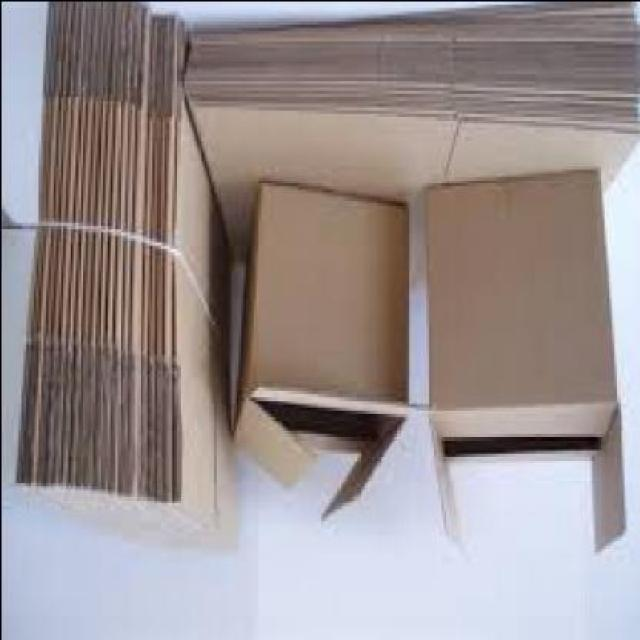CARDBOARD: (182, 3, 638, 268), (12, 3, 230, 554), (415, 172, 623, 560), (227, 185, 405, 524)
